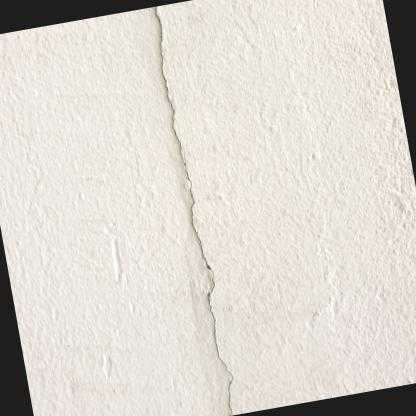crack: (154, 5, 234, 416)
